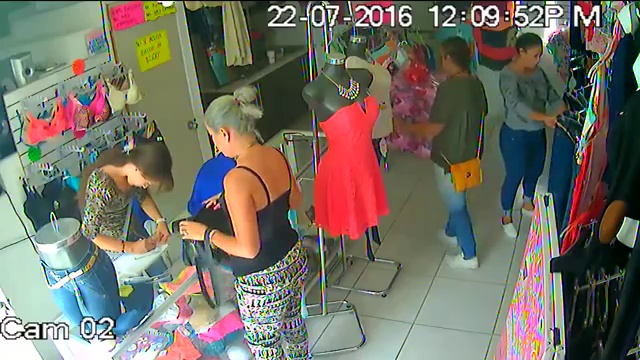face: (520, 34, 545, 69), (123, 164, 161, 186)
